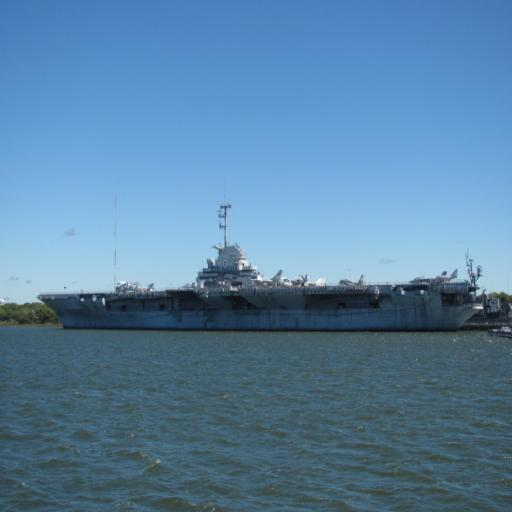Portanaves: (36, 184, 491, 336)
